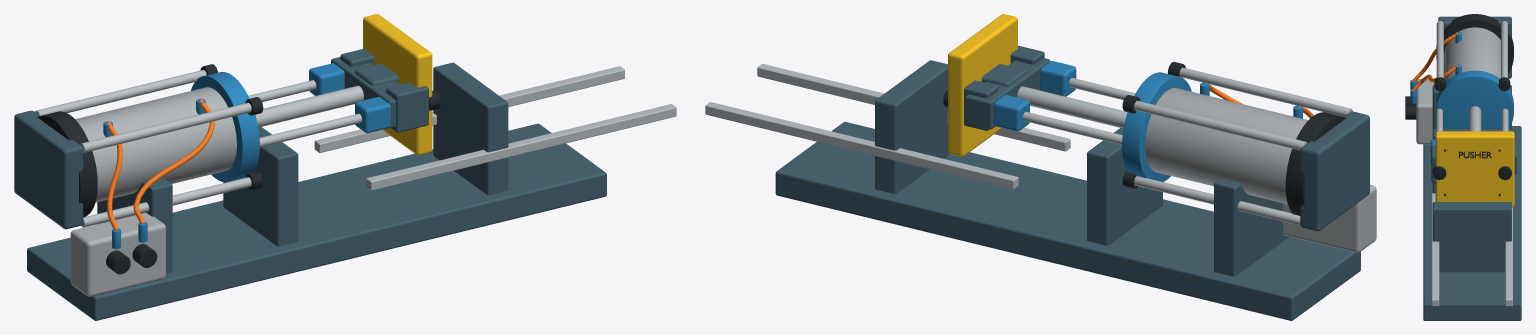
The model's file is food_product_load.glb.
The picture shows the model from 3 angles, left to right: view 1: azimuth 30°, elevation 25°; view 2: azimuth 150°, elevation 25°; view 3: azimuth 270°, elevation 25°; orthographic projection. The views are drawn at different scales.
Parts seen in each view (by area): view 1: FRAME_base, CYLINDER_barrel, FRAME_pedestal_1.55, CYLINDER_rear_mount, VALVE_manifold, FRAME_pedestal_0.28, TRANSFER_wear_rail_-0.27, KIN_pusher_plate, CYLINDER_front_cap, TRANSFER_wear_rail_0.27, KIN_pusher_rod, FRAME_pedestal_-0.48 (+13 smaller); view 2: FRAME_base, CYLINDER_barrel, FRAME_pedestal_1.55, CYLINDER_rear_mount, FRAME_pedestal_0.28, KIN_pusher_plate, FRAME_pedestal_-0.48, TRANSFER_wear_rail_0.27, VALVE_manifold, CYLINDER_front_cap, TRANSFER_wear_rail_-0.27, KIN_pusher_rod (+11 smaller); view 3: FRAME_base, KIN_pusher_plate, FRAME_pedestal_1.55, CYLINDER_front_cap, CYLINDER_barrel, CYLINDER_rear_cap, VALVE_manifold, TRANSFER_wear_rail_-0.27, TRANSFER_wear_rail_0.27, CYLINDER_tie_rod_-0.235_0.955, CYLINDER_tie_rod_0.235_0.955, CYLINDER_rear_mount (+15 smaller).
Part boxes in pixels (x1=…): FRAME_base: x1=27, y1=123, x2=606, y2=320; CYLINDER_barrel: x1=75, y1=87, x2=236, y2=202; FRAME_pedestal_1.55: x1=433, y1=62, x2=508, y2=195; CYLINDER_rear_mount: x1=14, y1=110, x2=83, y2=229; VALVE_manifold: x1=70, y1=212, x2=165, y2=296; FRAME_pedestal_0.28: x1=223, y1=127, x2=298, y2=246; TRANSFER_wear_rail_-0.27: x1=366, y1=104, x2=676, y2=190; KIN_pusher_plate: x1=363, y1=14, x2=432, y2=155; CYLINDER_front_cap: x1=191, y1=72, x2=259, y2=182; TRANSFER_wear_rail_0.27: x1=314, y1=66, x2=624, y2=152; KIN_pusher_rod: x1=255, y1=85, x2=363, y2=127; FRAME_pedestal_-0.48: x1=97, y1=177, x2=172, y2=273; FRAME_base: x1=775, y1=121, x2=1360, y2=320; CYLINDER_barrel: x1=1145, y1=88, x2=1308, y2=204; FRAME_pedestal_1.55: x1=875, y1=60, x2=950, y2=193; CYLINDER_rear_mount: x1=1300, y1=111, x2=1369, y2=231; FRAME_pedestal_0.28: x1=1087, y1=128, x2=1162, y2=245; KIN_pusher_plate: x1=948, y1=14, x2=1017, y2=156; FRAME_pedestal_-0.48: x1=1214, y1=178, x2=1289, y2=276; TRANSFER_wear_rail_0.27: x1=705, y1=102, x2=1018, y2=189; VALVE_manifold: x1=1283, y1=184, x2=1376, y2=252; CYLINDER_front_cap: x1=1122, y1=72, x2=1191, y2=181; TRANSFER_wear_rail_-0.27: x1=757, y1=64, x2=1070, y2=151; KIN_pusher_rod: x1=1017, y1=86, x2=1127, y2=128; FRAME_base: x1=1423, y1=126, x2=1521, y2=320; KIN_pusher_plate: x1=1435, y1=131, x2=1514, y2=207; FRAME_pedestal_1.55: x1=1432, y1=202, x2=1511, y2=272; CYLINDER_front_cap: x1=1436, y1=70, x2=1513, y2=128; CYLINDER_barrel: x1=1444, y1=27, x2=1500, y2=81; CYLINDER_rear_cap: x1=1436, y1=14, x2=1513, y2=73; VALVE_manifold: x1=1416, y1=79, x2=1434, y2=144; TRANSFER_wear_rail_-0.27: x1=1431, y1=193, x2=1439, y2=306; TRANSFER_wear_rail_0.27: x1=1505, y1=207, x2=1512, y2=306; CYLINDER_tie_rod_-0.235_0.955: x1=1436, y1=21, x2=1443, y2=77; CYLINDER_tie_rod_0.235_0.955: x1=1501, y1=21, x2=1507, y2=77; CYLINDER_rear_mount: x1=1438, y1=16, x2=1511, y2=78.
Size of the model in its own units: 3.68 by 1.03 by 0.85.
